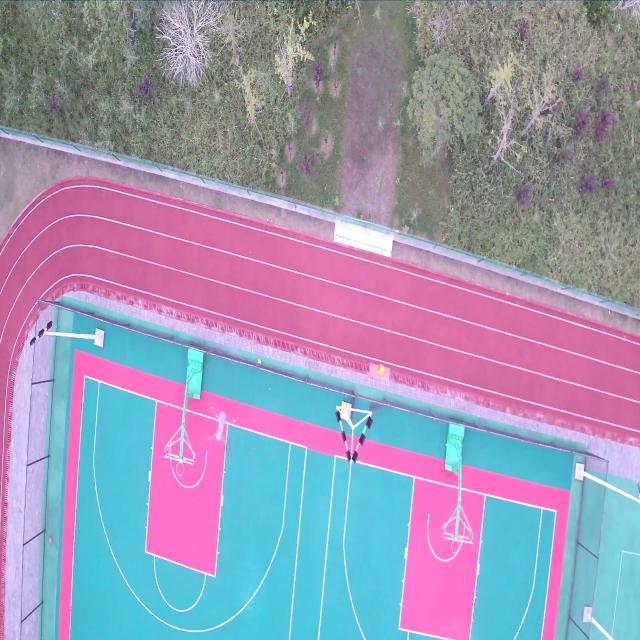UAV: (206, 404, 237, 455)
